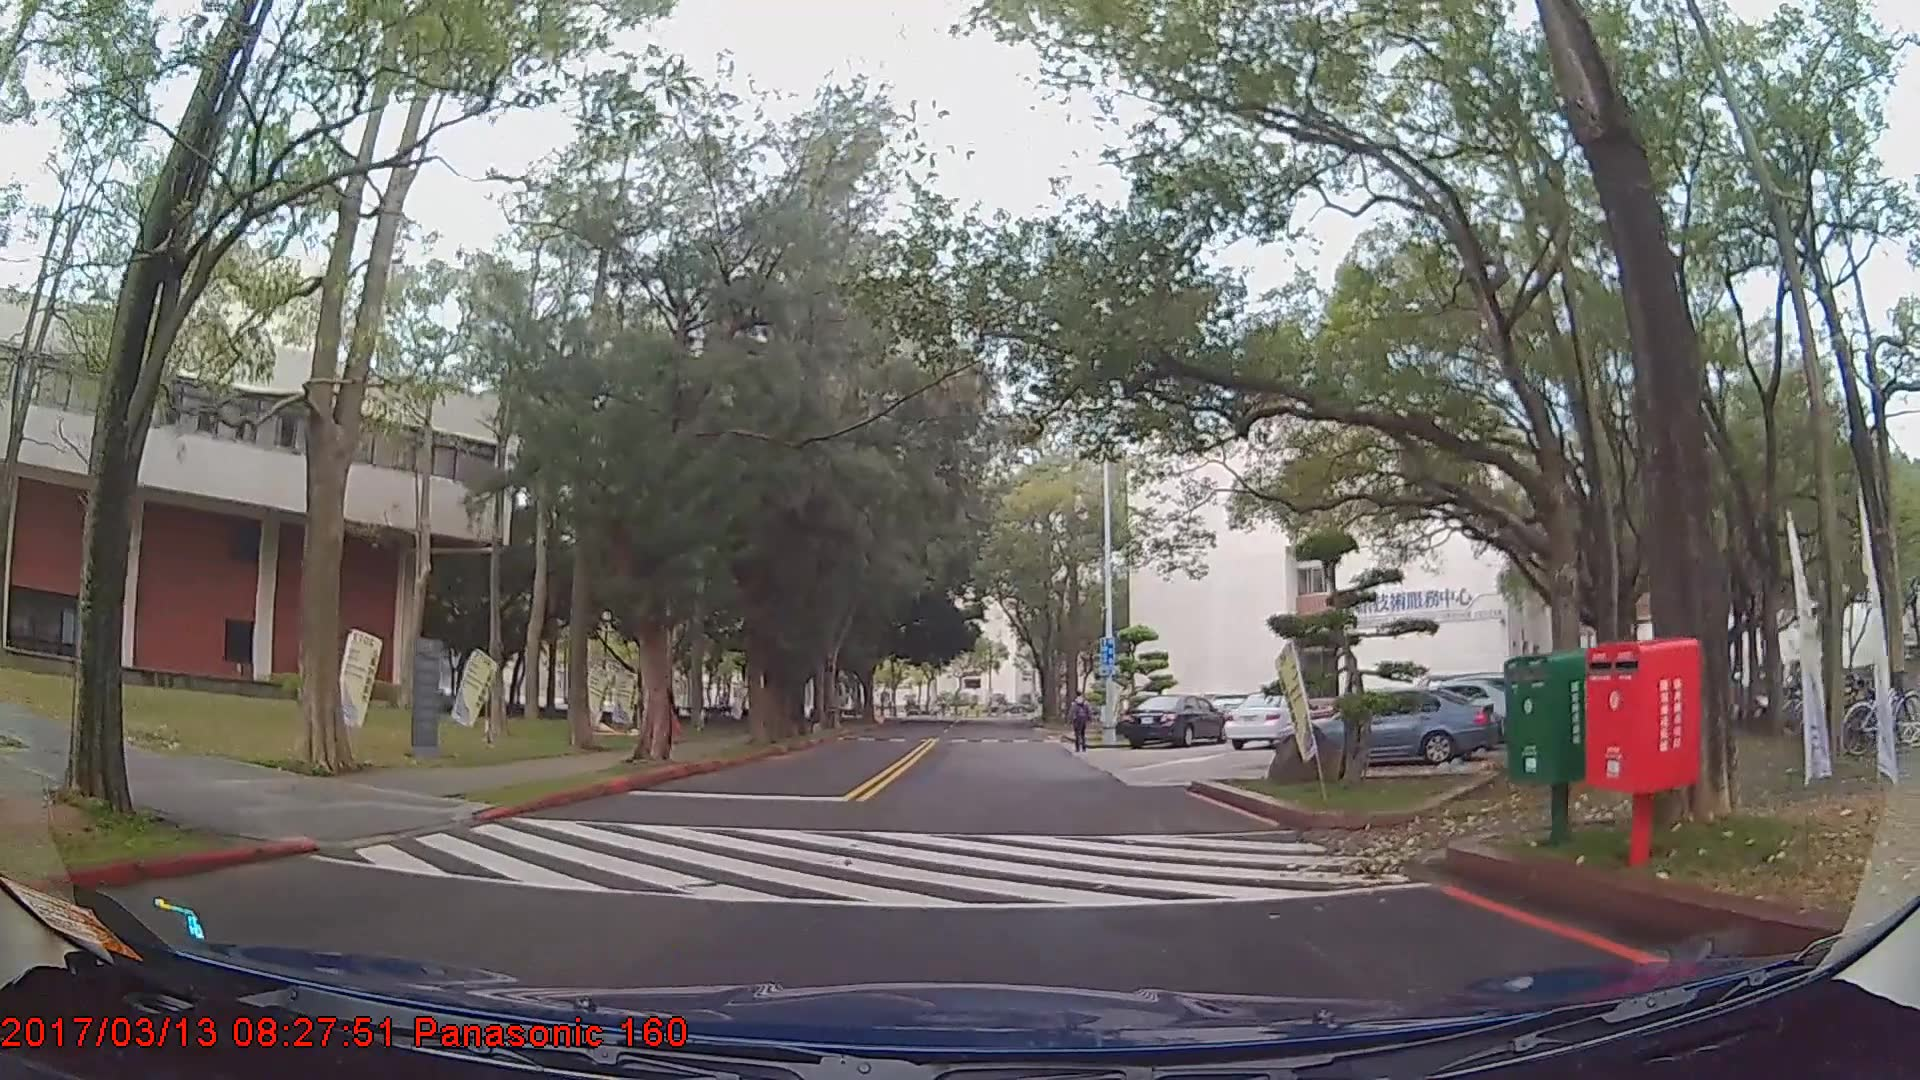pedestrian: (1069, 692, 1096, 754)
vehicle: (1274, 681, 1496, 773), (1115, 694, 1226, 746), (1222, 689, 1305, 748)
